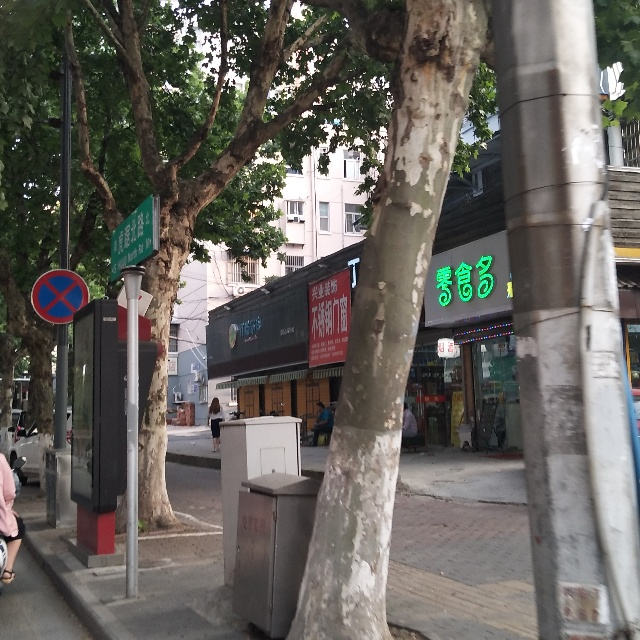stop: (38, 278, 80, 318)
